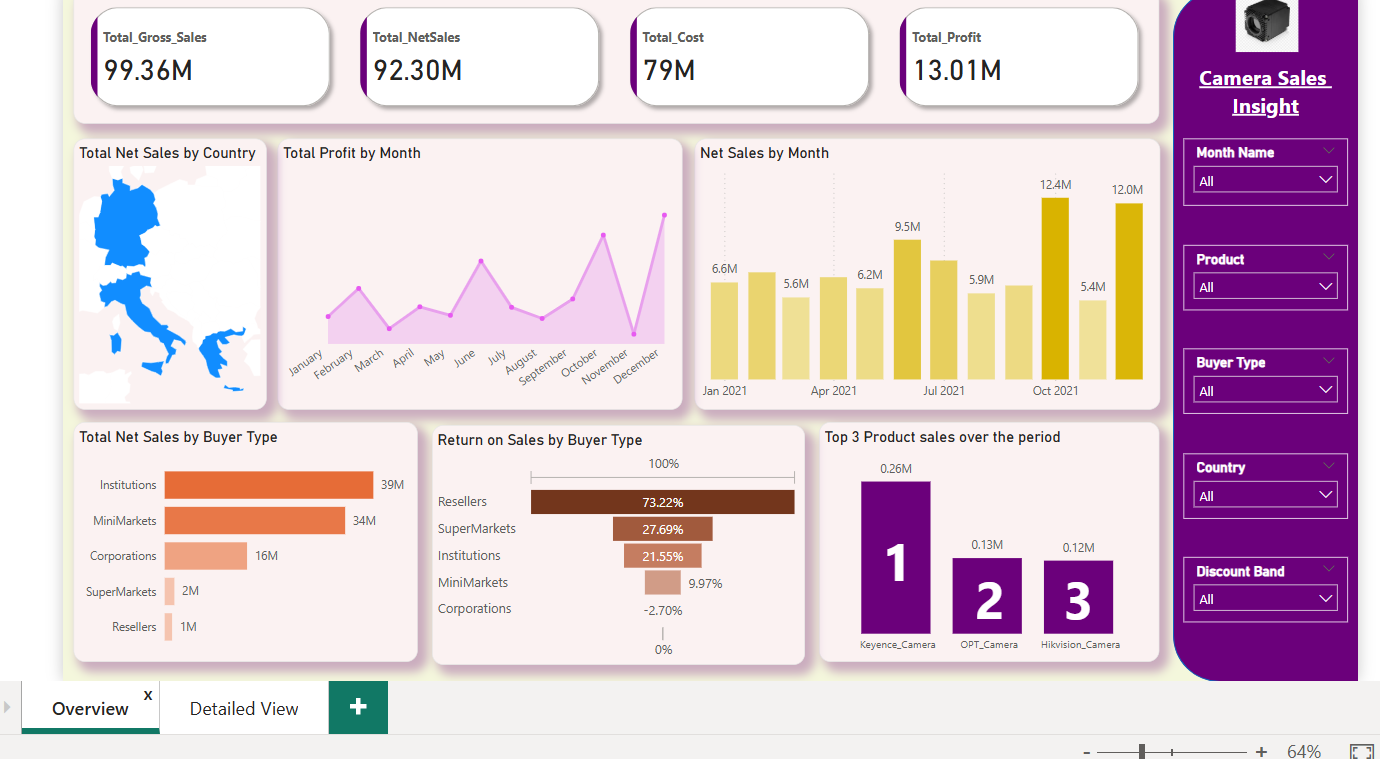

This screenshot's page, from the dashboard's own definition file:
{"tool":"powerbi","page":{"name":"Overview","canvas":[1350,720],"ordinal":0},"visuals":[{"type":"shape","box":[1156.2,0,194.4,721],"z":0},{"type":"cardVisual","fields":{"Data":["Measure_.Total_Gross_Sales","Measure_.Total_NetSales","Measure_.Total_Cost","Measure_.Total_Profit"]},"box":[11.6,0,1131.3,139.5],"z":1000},{"type":"columnChart","title":"Net Sales by Month","fields":{"Y":["Measure_.Total_NetSales"],"Category":["Mediterranean Cameras Company.Date"]},"box":[657.8,154.5,485.1,282.4],"z":2000},{"type":"areaChart","title":"Total Profit by Month","fields":{"Category":["Calendar.Date.Variation.Date Hierarchy.Month"],"Y":["Measure_.Total_Profit"]},"box":[224.3,154.5,421.9,282.4],"z":3000},{"type":"shapeMap","title":"Total Net Sales by Country","fields":{"Category":["Mediterranean Cameras Company.Country"],"Value":["Measure_.Total_NetSales"]},"box":[11.6,154.5,201,282.4],"z":4000},{"type":"barChart","title":"Total Net Sales by Buyer Type","fields":{"Y":["Measure_.Total_NetSales"],"Category":["Mediterranean Cameras Company.Buyer Type"]},"box":[10.7,450.7,358.9,249.9],"z":5000},{"type":"clusteredColumnChart","title":"Top 3 Product sales over the period","fields":{"Category":["Mediterranean Cameras Company.Product"],"Y":["Measure_.Total_Units_Sold"]},"box":[788.2,450.7,354.6,249.9],"z":6000},{"type":"slicer","fields":{"Values":["Calendar.Month Name"]},"box":[1167.8,154.5,171.1,69.8],"z":7000},{"type":"slicer","fields":{"Values":["Mediterranean Cameras Company.Product"]},"box":[1167.8,265,171.1,68.1],"z":8000},{"type":"slicer","fields":{"Values":["Mediterranean Cameras Company.Buyer Type"]},"box":[1167.8,373.8,171.1,68.1],"z":9000},{"type":"slicer","fields":{"Values":["Mediterranean Cameras Company.Country"]},"box":[1167.8,482.6,171.1,68.1],"z":10000},{"type":"slicer","fields":{"Values":["Mediterranean Cameras Company.Discount Band"]},"box":[1167.8,591.4,171.1,68.1],"z":11000},{"type":"image","box":[1206,0,96.4,69.8],"z":12000},{"type":"textbox","box":[1167.8,69.8,171.1,69.8],"z":13000},{"type":"textbox","box":[848.7,590.8,37.5,81.3],"z":14000},{"type":"textbox","box":[946.3,591.7,38.4,83.3],"z":15000},{"type":"textbox","box":[1038.1,591.7,38.4,106.8],"z":16000},{"type":"funnel","fields":{"Category":["Mediterranean Cameras Company.Buyer Type"],"Y":["Measure_.Return on Sales"]},"box":[384.5,452.8,388.8,249.9],"z":17000}]}

Visuals, with their boxes on the page's 1350x720 design canvas (x1, y1, x2, y2). These are canvas units, not pixel positions in the 1380x759 screenshot, which may show the page scaled, cropped or inside an application window:
shape: [1156, 0, 1351, 721]
cardVisual - Measure_.Total_Gross_Sales x Measure_.Total_NetSales: [12, 0, 1143, 140]
"Net Sales by Month" columnChart: [658, 154, 1143, 437]
"Total Profit by Month" areaChart: [224, 154, 646, 437]
"Total Net Sales by Country" shapeMap: [12, 154, 213, 437]
"Total Net Sales by Buyer Type" barChart: [11, 451, 370, 701]
"Top 3 Product sales over the period" clusteredColumnChart: [788, 451, 1143, 701]
slicer - Calendar.Month Name: [1168, 154, 1339, 224]
slicer - Mediterranean Cameras Company.Product: [1168, 265, 1339, 333]
slicer - Mediterranean Cameras Company.Buyer Type: [1168, 374, 1339, 442]
slicer - Mediterranean Cameras Company.Country: [1168, 483, 1339, 551]
slicer - Mediterranean Cameras Company.Discount Band: [1168, 591, 1339, 660]
image: [1206, 0, 1302, 70]
textbox: [1168, 70, 1339, 140]
textbox: [849, 591, 886, 672]
textbox: [946, 592, 985, 675]
textbox: [1038, 592, 1076, 698]
funnel - Mediterranean Cameras Company.Buyer Type x Measure_.Return on Sales: [384, 453, 773, 703]
